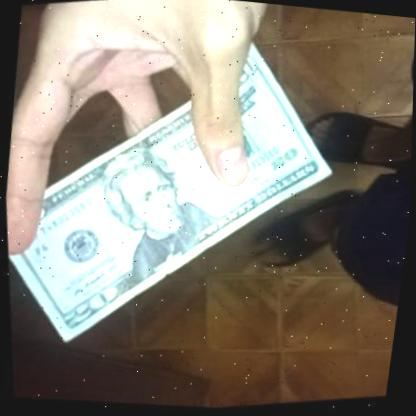twenty-front: (0, 2, 377, 381)
